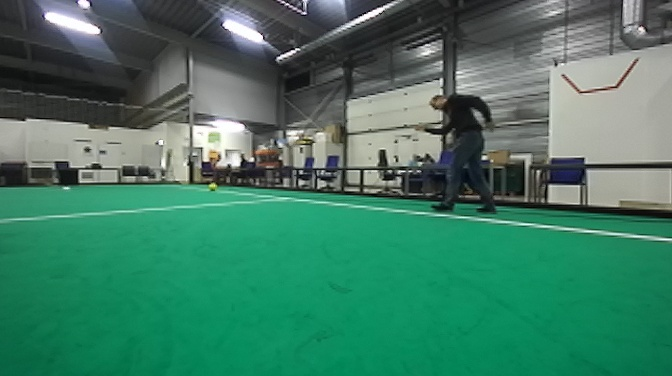ball: (208, 181, 218, 192)
human: (429, 87, 501, 217)
